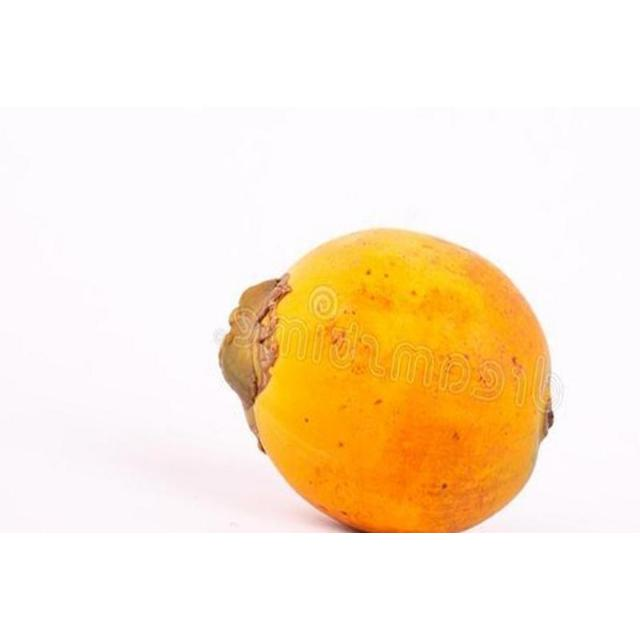good: (226, 228, 554, 533)
